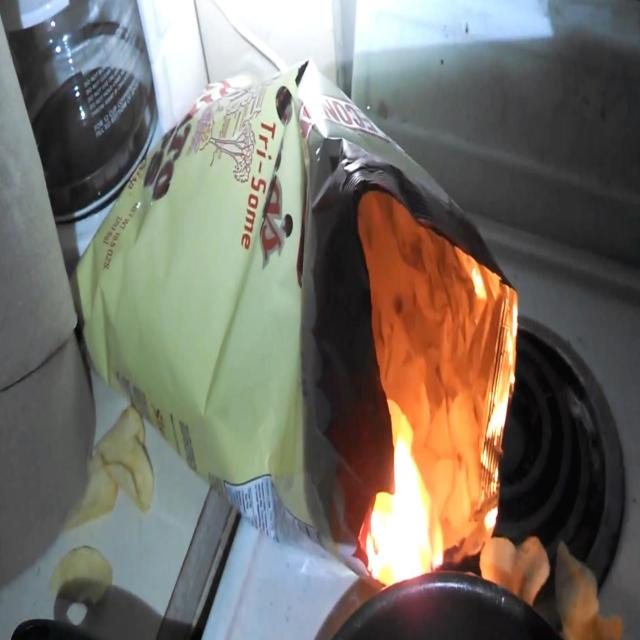fire: (360, 400, 451, 590)
